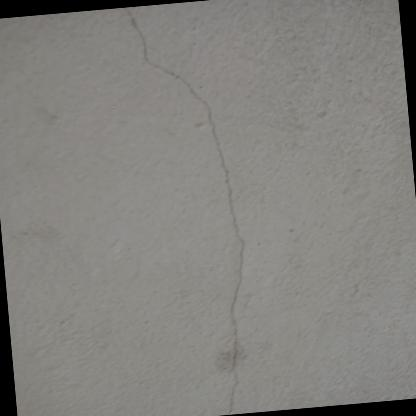crack: (126, 11, 246, 416)
